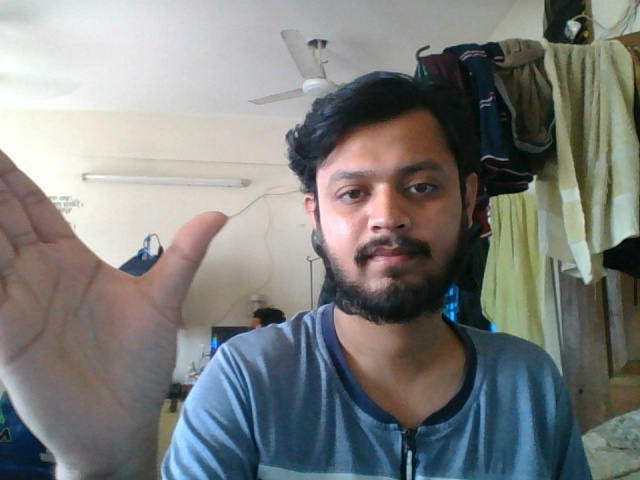a: (1, 129, 236, 478)
